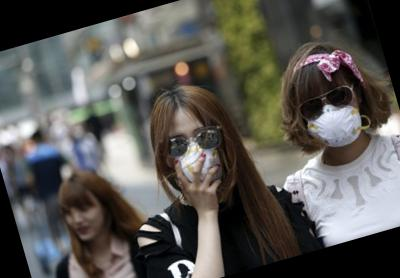with_mask: (296, 78, 369, 156), (161, 120, 228, 193)
without_mask: (63, 197, 110, 246)
